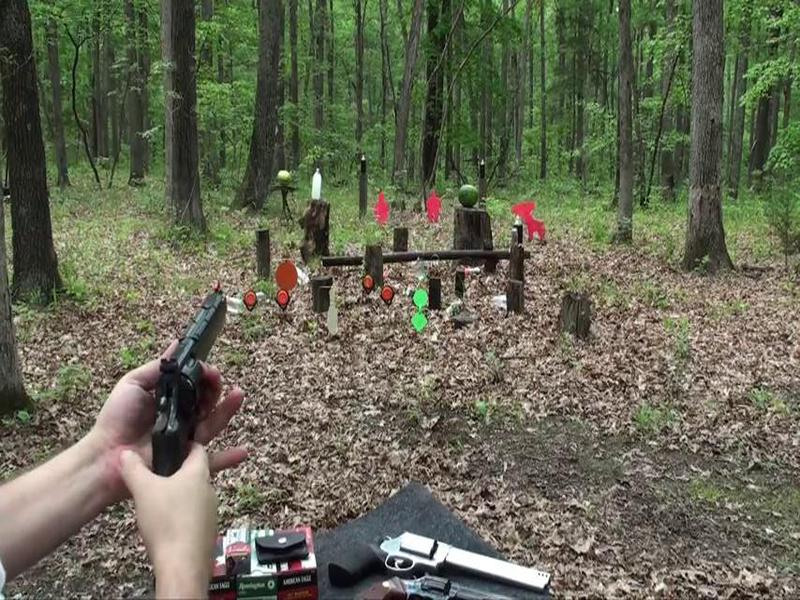Revolver: (137, 269, 244, 509)
